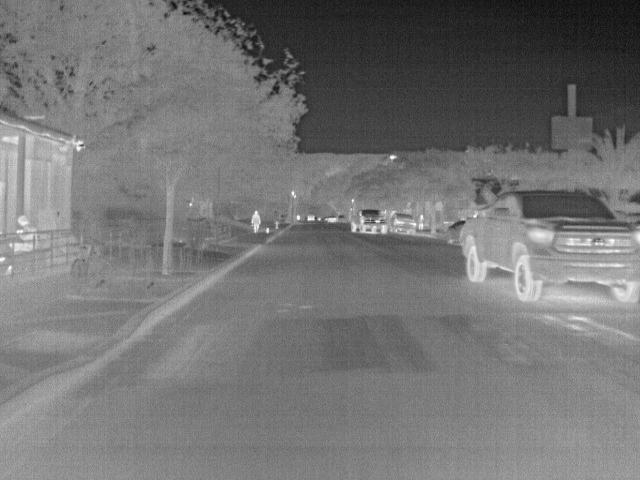car: (458, 189, 636, 304), (348, 207, 390, 234), (391, 210, 420, 234), (443, 217, 469, 243)
person: (9, 215, 41, 253), (249, 208, 264, 234)
